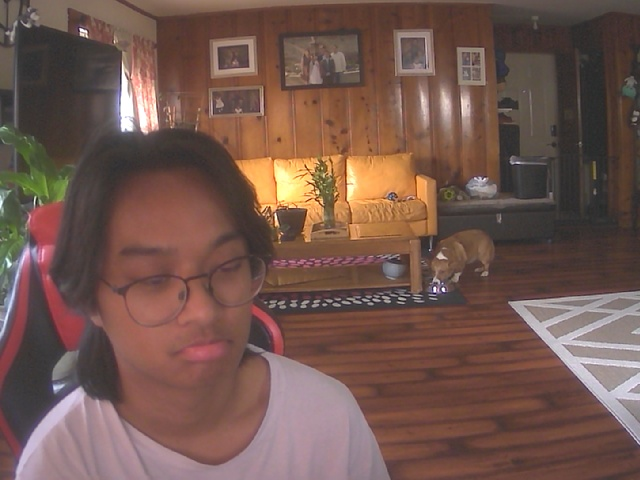sad: (77, 149, 272, 397)
